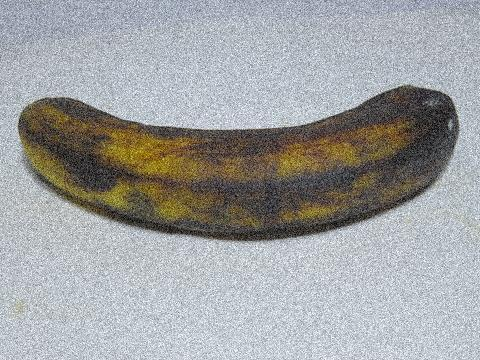overripe: (6, 72, 479, 249)
